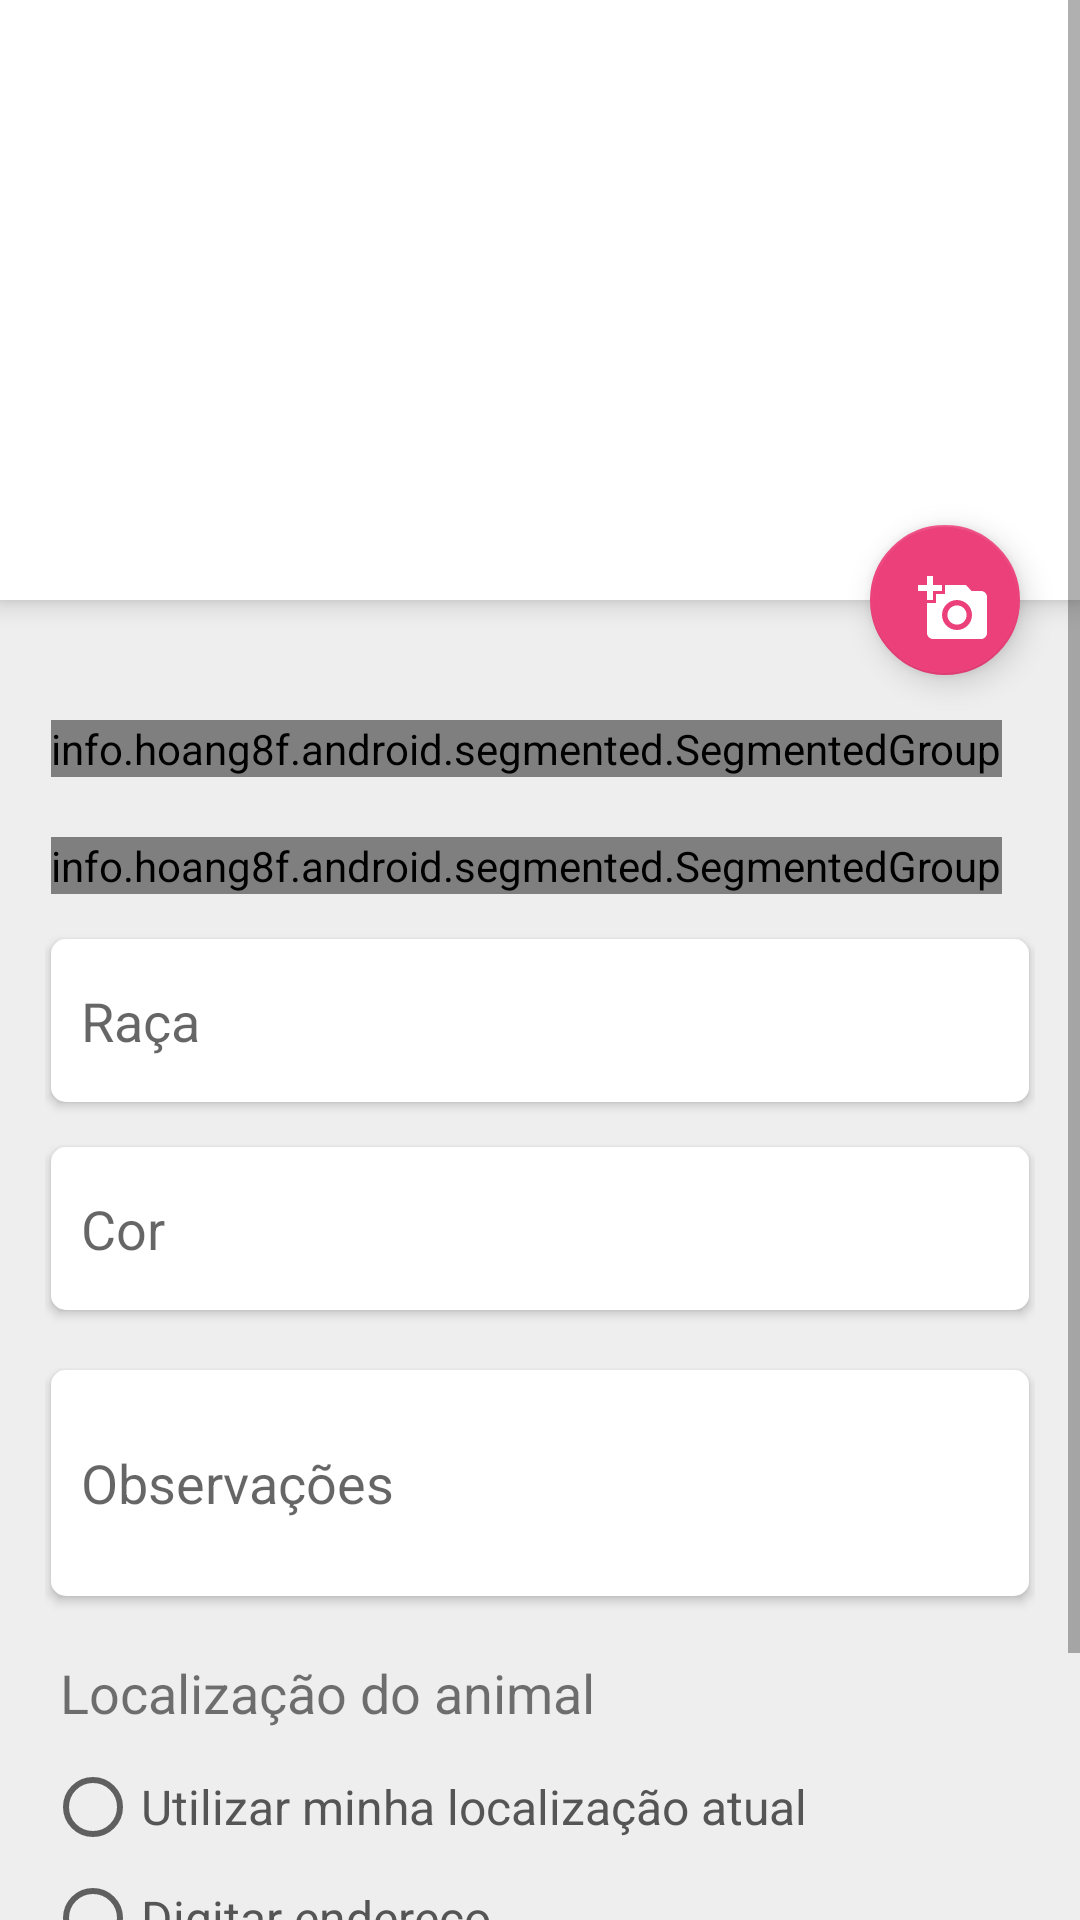

Icon bounding boxes for this 1080px×1920px phone screenshot, format (x1, y1, x2, y2):
add photo: (870, 525, 1020, 675)
